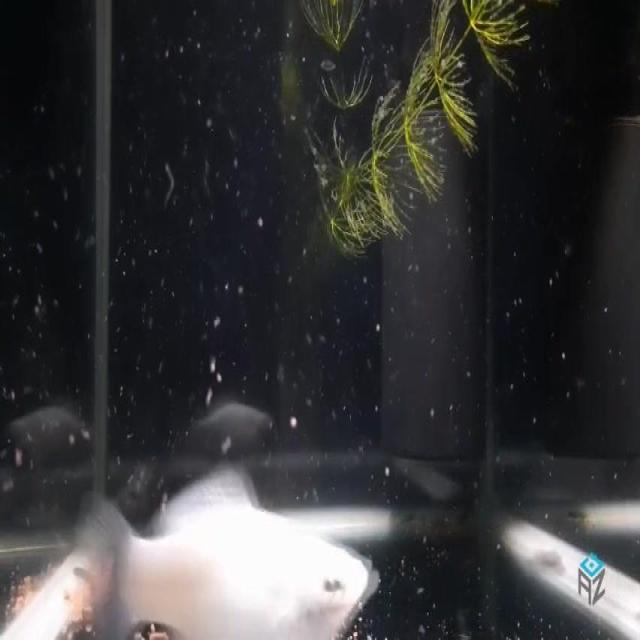PlatyFish: (66, 461, 392, 640)
